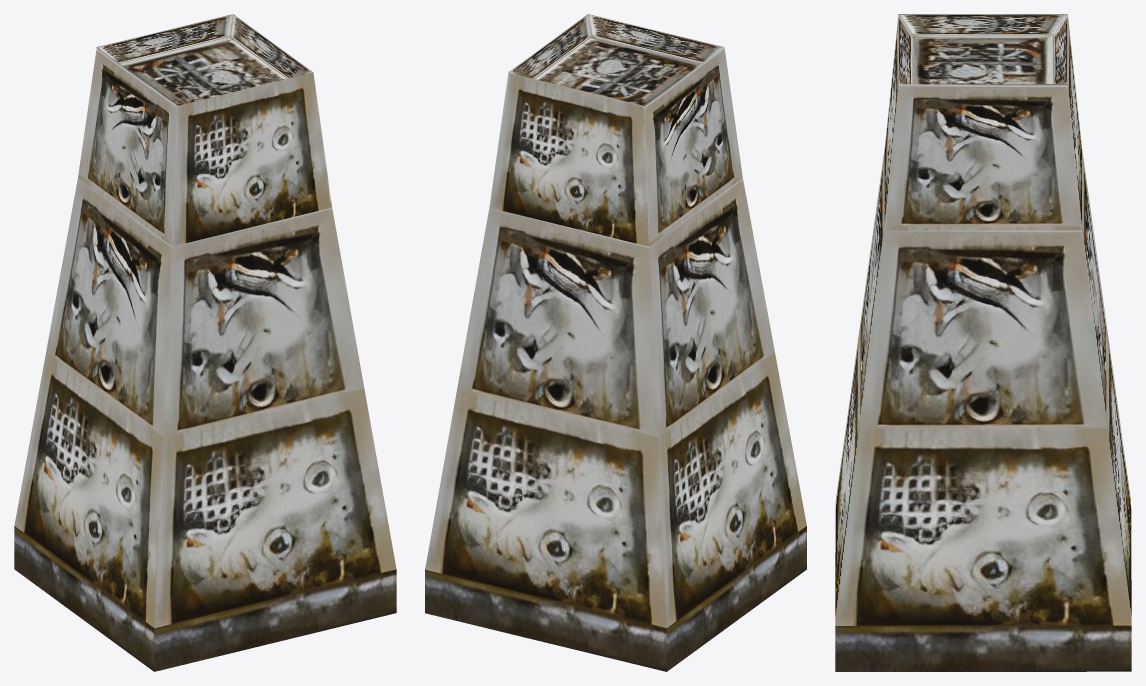
Rendered from d_mediumpost_dam_hdtex.glb.
3 views of the same model, side by side, from view 1: azimuth 30°, elevation 25°; view 2: azimuth 150°, elevation 25°; view 3: azimuth 270°, elevation 25° (orthographic). The views are drawn at different scales.
Parts seen in each view (by area): view 1: DavionMediumPostDam; view 2: DavionMediumPostDam; view 3: DavionMediumPostDam.
Boxes of the visible parts, x1,y1,x2,y2 form: DavionMediumPostDam: [14, 14, 396, 671]; DavionMediumPostDam: [425, 14, 806, 671]; DavionMediumPostDam: [835, 14, 1131, 671].
Size of the model in its own units: 5.49 by 11.52 by 5.52.
Materials: 1 (1 with a texture image).
